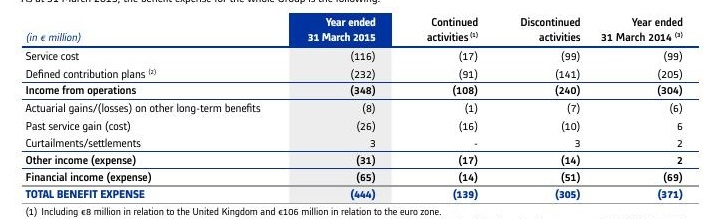table: (0, 0, 712, 219)
